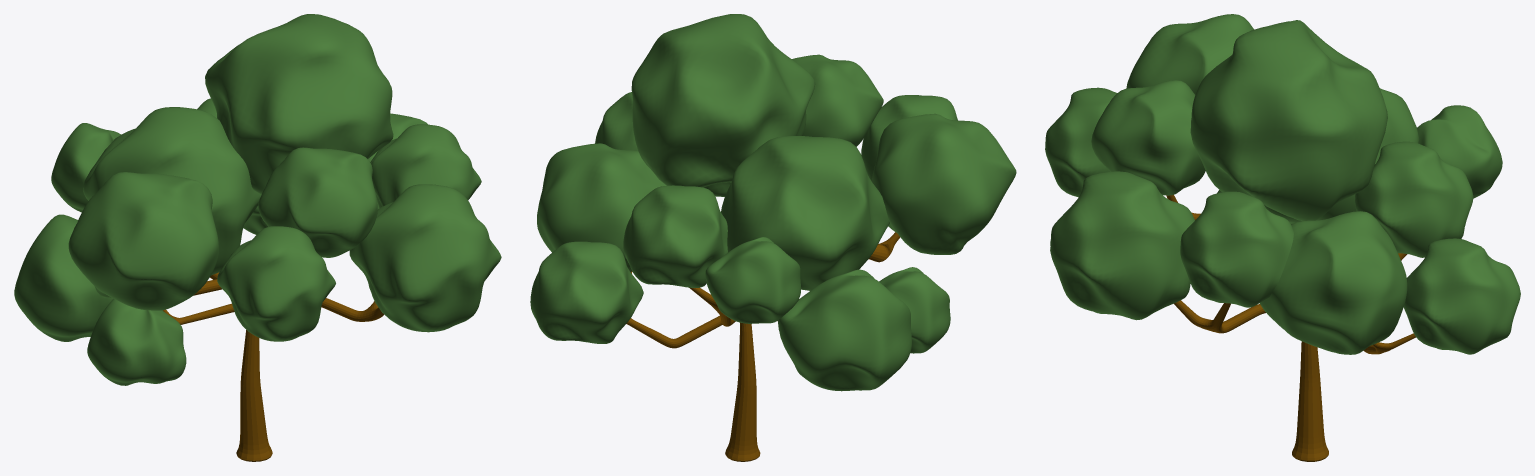
File: Tree 2.fbx
3 views of the same model, side by side, from view 1: azimuth 30°, elevation 25°; view 2: azimuth 150°, elevation 25°; view 3: azimuth 270°, elevation 25° (orthographic). The views are drawn at different scales.
Visible parts, largest first — view 1: Roundcube.005, Roundcube.037, Roundcube.035, Roundcube.004, Roundcube.032, Roundcube.036, Roundcube.002, Roundcube.003, Roundcube.038, Plane.002, Roundcube.033, Roundcube.039; view 2: Roundcube.005, Roundcube.004, Roundcube.037, Roundcube.002, Roundcube.039, Roundcube.034, Roundcube.001, Roundcube.033, Roundcube.032, Plane.002, Roundcube.003, Roundcube.036 (+1 smaller); view 3: Roundcube.005, Roundcube.035, Roundcube.039, Roundcube.034, Roundcube.038, Roundcube.032, Roundcube.001, Roundcube.037, Plane.002, Roundcube.036, Roundcube.033, Roundcube.004.
Boxes of the visible parts, x1,y1,x2,y2 form: Roundcube.005: (205, 14, 393, 194); Roundcube.037: (68, 172, 218, 310); Roundcube.035: (349, 184, 501, 332); Roundcube.004: (83, 107, 261, 275); Roundcube.032: (258, 147, 377, 257); Roundcube.036: (217, 226, 335, 341); Roundcube.002: (14, 214, 113, 341); Roundcube.003: (87, 298, 186, 385); Roundcube.038: (370, 124, 481, 207); Plane.002: (163, 272, 383, 461); Roundcube.033: (51, 123, 120, 212); Roundcube.039: (368, 113, 427, 209); Roundcube.005: (631, 14, 815, 187); Roundcube.004: (721, 136, 889, 290); Roundcube.037: (871, 113, 1016, 254); Roundcube.002: (778, 269, 911, 391); Roundcube.039: (537, 143, 666, 272); Roundcube.034: (530, 241, 643, 343); Roundcube.001: (623, 185, 727, 287); Roundcube.033: (705, 237, 801, 323); Roundcube.032: (792, 54, 883, 146); Plane.002: (626, 232, 900, 461); Roundcube.003: (879, 267, 950, 353); Roundcube.036: (861, 95, 957, 180); Roundcube.005: (1190, 20, 1387, 221); Roundcube.035: (1050, 171, 1194, 320); Roundcube.039: (1259, 211, 1407, 354); Roundcube.034: (1403, 238, 1520, 354); Roundcube.038: (1180, 191, 1293, 307); Roundcube.032: (1091, 80, 1205, 195); Roundcube.001: (1354, 141, 1473, 257); Roundcube.037: (1126, 14, 1253, 94); Plane.002: (1166, 195, 1415, 461); Roundcube.036: (1045, 87, 1117, 197); Roundcube.033: (1417, 105, 1502, 198); Roundcube.004: (1264, 88, 1419, 223).
Size of the model in its own units: 1280 by 1289 by 1264.
